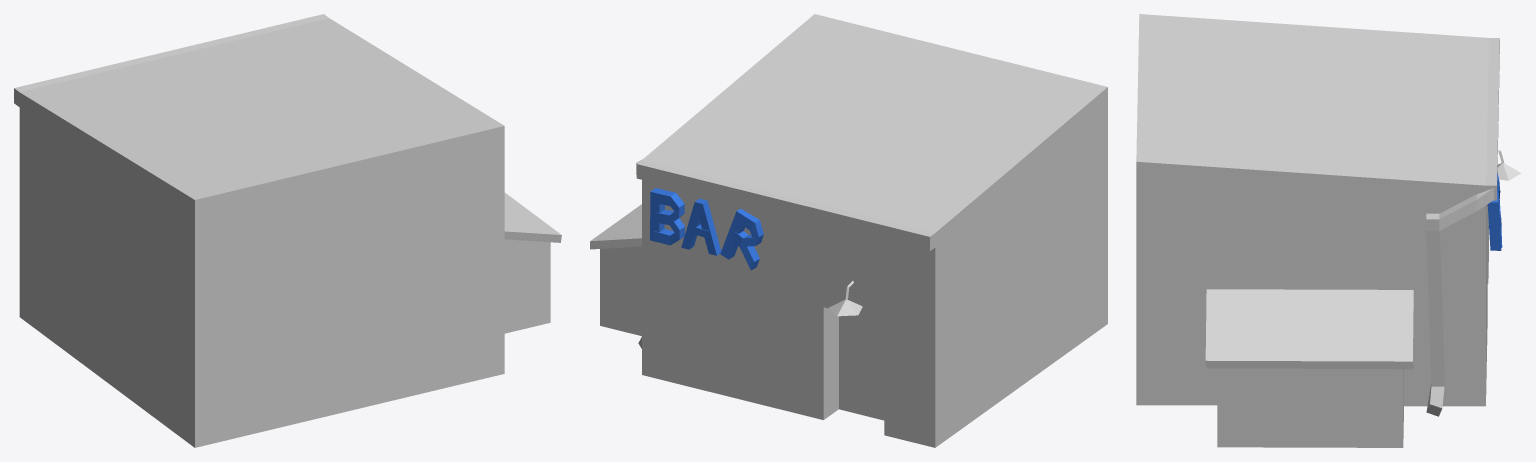
Rendered from bar.glb.
3 renders of one model, left to right at view 1: azimuth 30°, elevation 25°; view 2: azimuth 150°, elevation 25°; view 3: azimuth 270°, elevation 25°, orthographic. The views are drawn at different scales.
Visible parts, largest first — view 1: Cube, Cube.001; view 2: Cube, door, Cube.001, Cube.005, Cube.007, Cube.006; view 3: Cube, Cube.001, Cube.008, Cube.005.
Boxes of the visible parts, x1,y1,x2,y2 form: Cube: (14,14,504,447); Cube.001: (504,192,561,333); Cube: (636,14,1107,447); door: (823,307,884,420); Cube.001: (590,204,641,335); Cube.005: (650,188,684,245); Cube.007: (720,208,763,270); Cube.006: (681,198,721,255); Cube: (1136,14,1499,406); Cube.001: (1205,289,1414,447); Cube.008: (1426,188,1493,416); Cube.005: (1487,192,1502,250).
Bounding box in the file's own units: 2.61 × 1.54 × 2.2.
